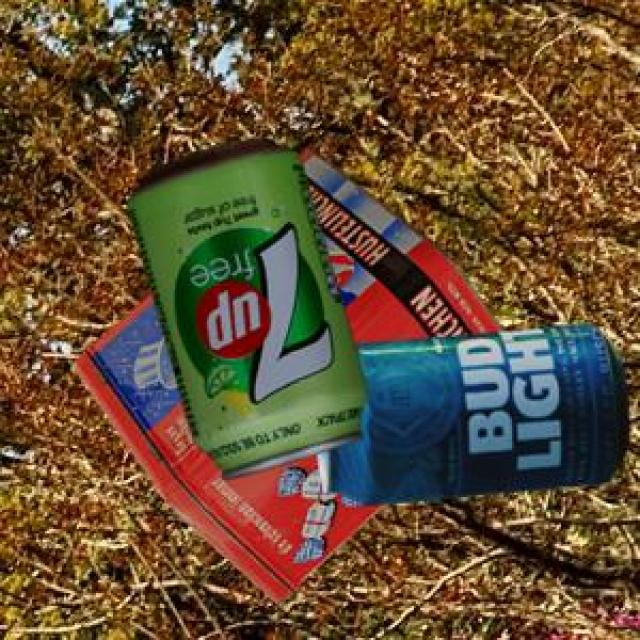logam: (71, 291, 383, 598), (125, 135, 364, 477), (315, 321, 626, 502), (298, 144, 500, 414)
